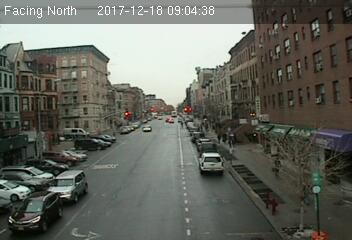car: (7, 190, 64, 234), (45, 171, 91, 203), (198, 151, 225, 174)
